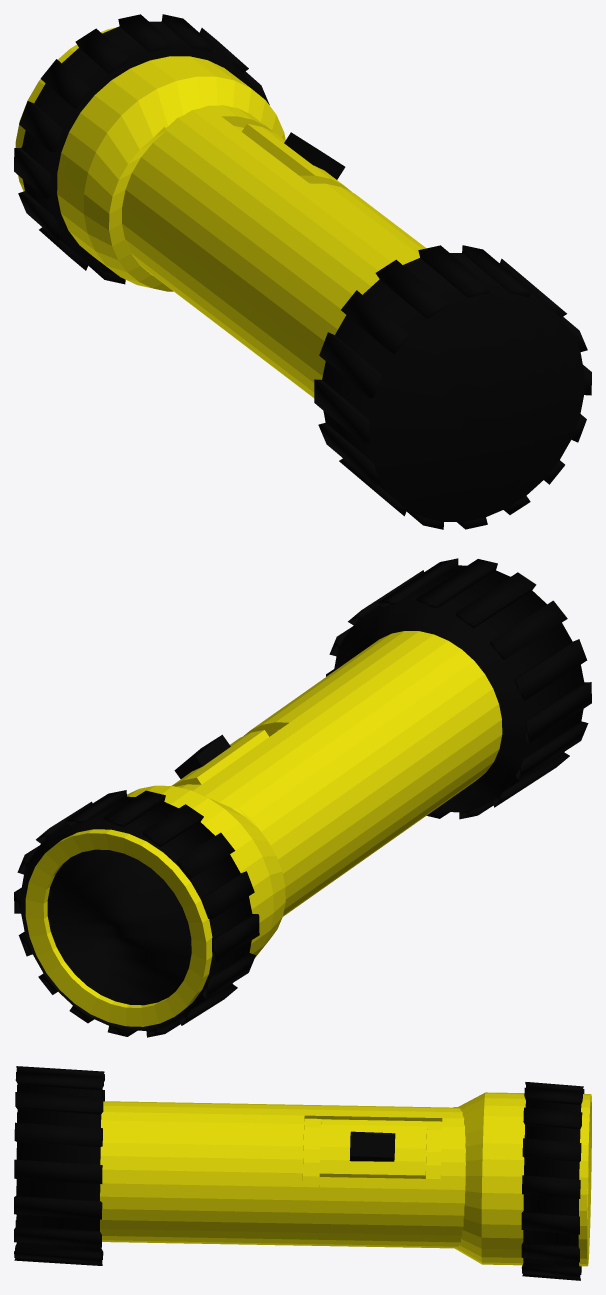
The model's file is flashlight.fbx.
The picture shows the model from 3 angles, top to bottom: view 1: azimuth 30°, elevation 25°; view 2: azimuth 150°, elevation 25°; view 3: azimuth 270°, elevation 25°; orthographic projection. The views are drawn at different scales.
Visible parts, largest first — view 1: Button, Cylinder.002, Cylinder.001, Cube; view 2: Button, Cylinder.001, Cylinder.002, Cube; view 3: Button, Cylinder.002, Cylinder.001, Cube.
Boxes of the visible parts, x1,y1,x2,y2 form: Button: [15, 27, 426, 397]; Cylinder.002: [314, 245, 591, 529]; Cylinder.001: [14, 14, 269, 284]; Cube: [284, 132, 345, 179]; Button: [25, 631, 502, 1026]; Cylinder.001: [14, 790, 259, 1037]; Cylinder.002: [326, 558, 591, 819]; Cube: [174, 734, 230, 778]; Button: [100, 1092, 591, 1266]; Cylinder.002: [14, 1066, 104, 1265]; Cylinder.001: [521, 1082, 584, 1280]; Cube: [349, 1131, 395, 1161].
Size of the model in its own units: 253 by 235 by 665.
